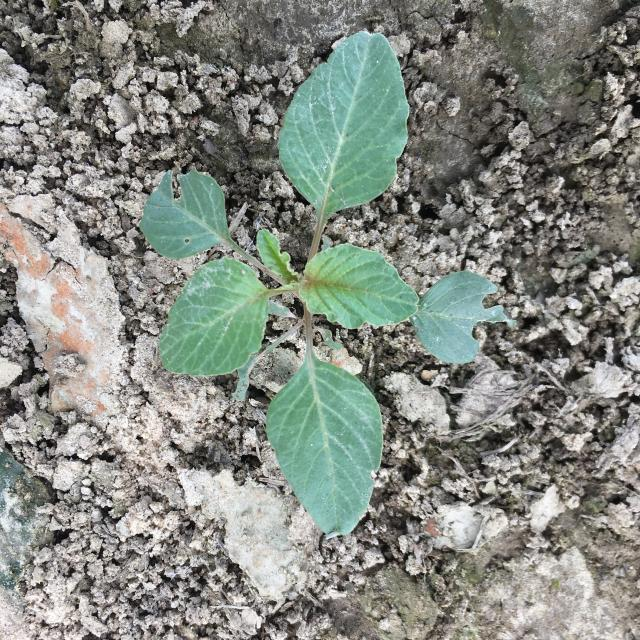PalmerAmaranth: (139, 31, 517, 536)
